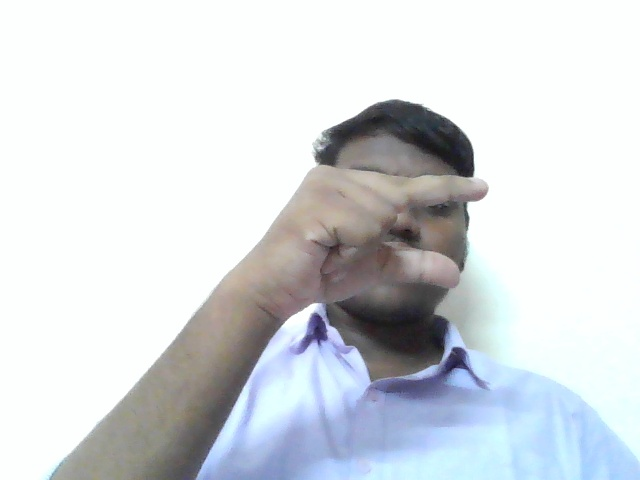No: (240, 162, 512, 321)
